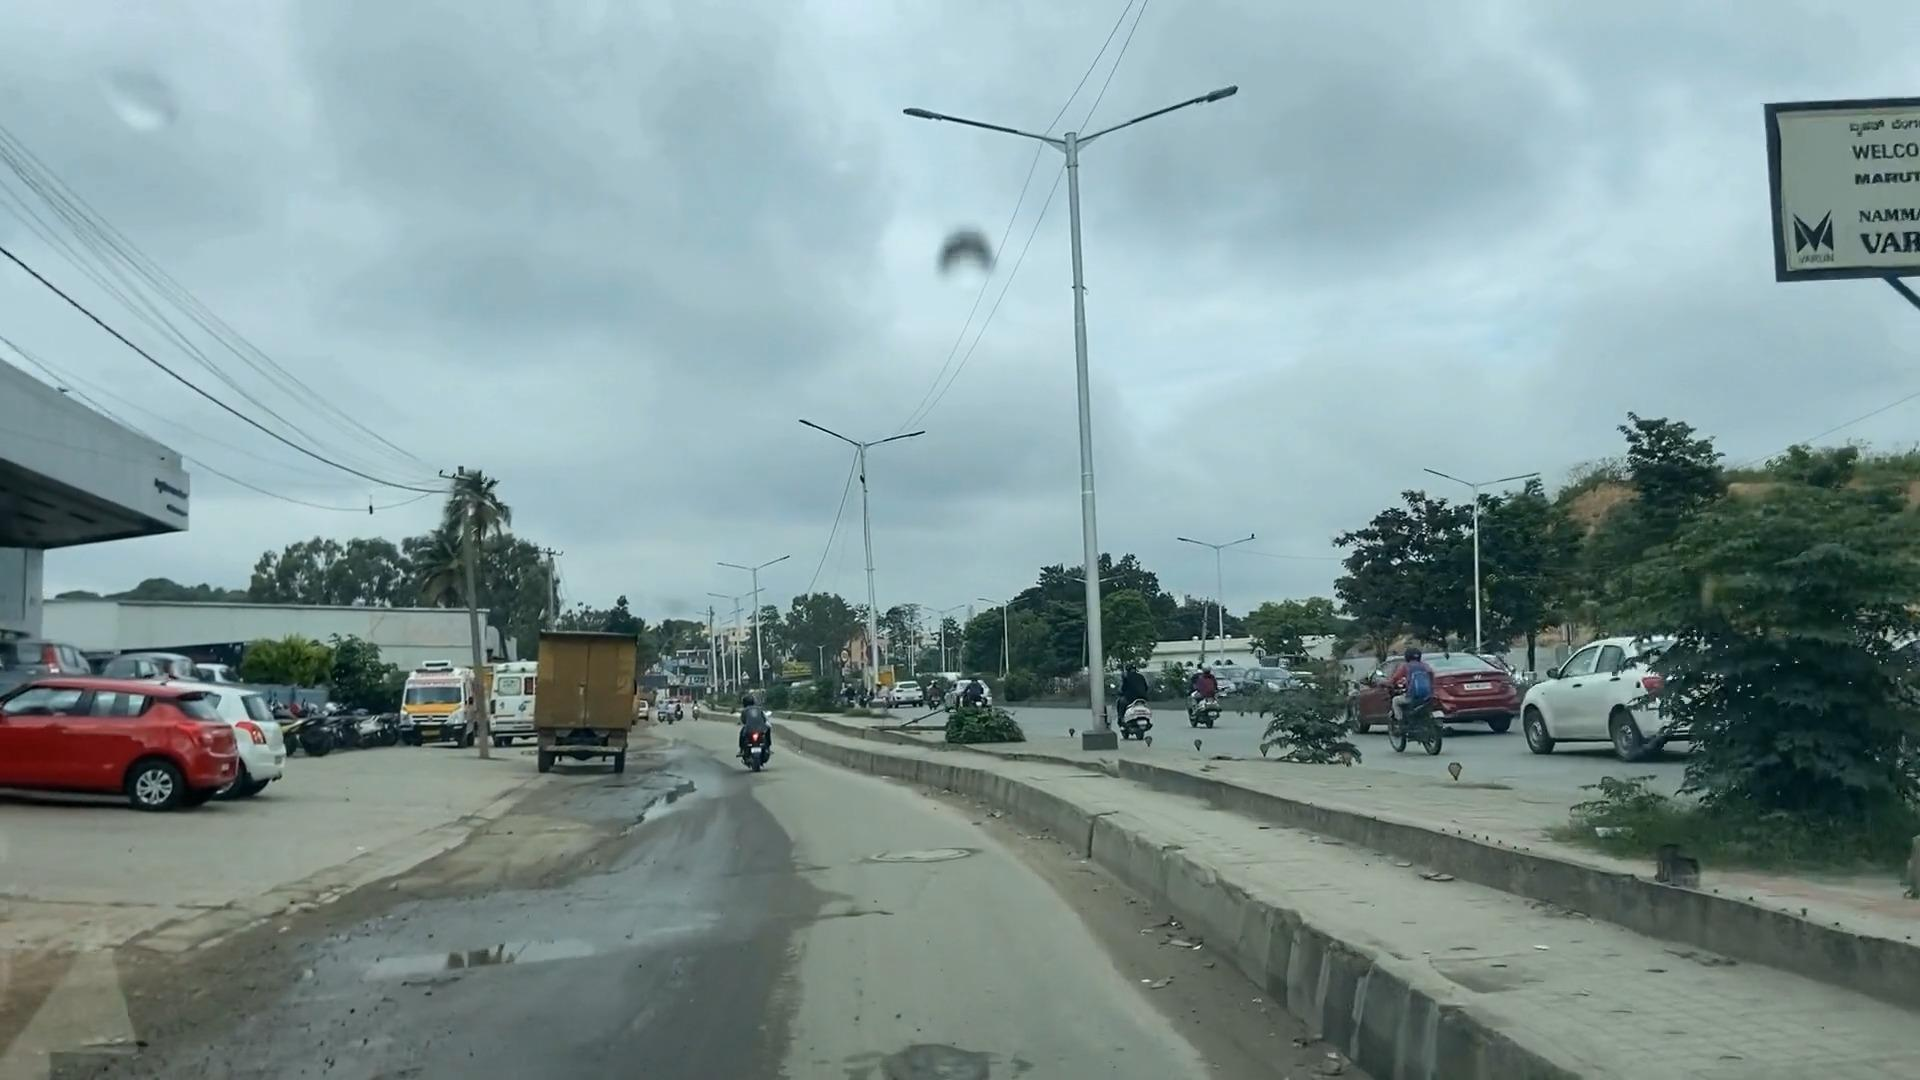RoadDamages: (860, 1027, 1038, 1080), (866, 823, 986, 881)
